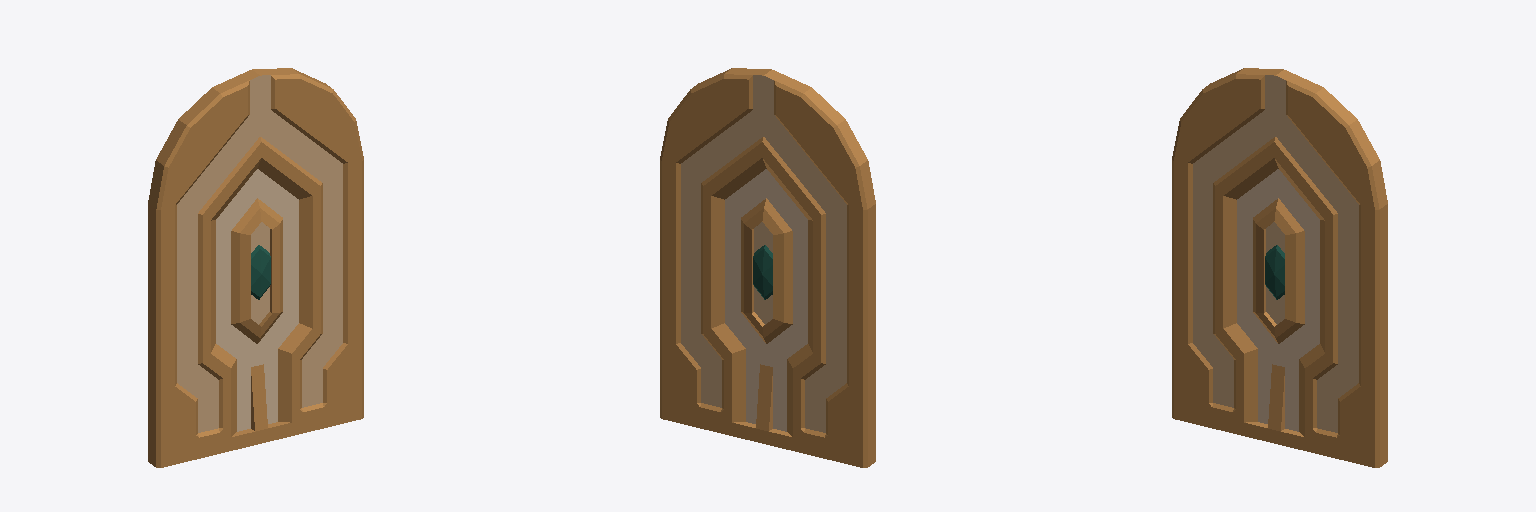
Rendered from door_large.obj.
3 views of the same model, side by side, from view 1: azimuth 30°, elevation 25°; view 2: azimuth 150°, elevation 25°; view 3: azimuth 330°, elevation 25° (orthographic).
Parts seen in each view (by area): view 1: mergedBlocks; view 2: mergedBlocks; view 3: mergedBlocks.
Part boxes in pixels (left/top/right/bottom): mergedBlocks: left=148, top=68, right=363, bottom=467; mergedBlocks: left=660, top=68, right=875, bottom=467; mergedBlocks: left=1172, top=68, right=1387, bottom=467.
Bounding box in the file's own units: 1.6 × 2.7 × 0.15.